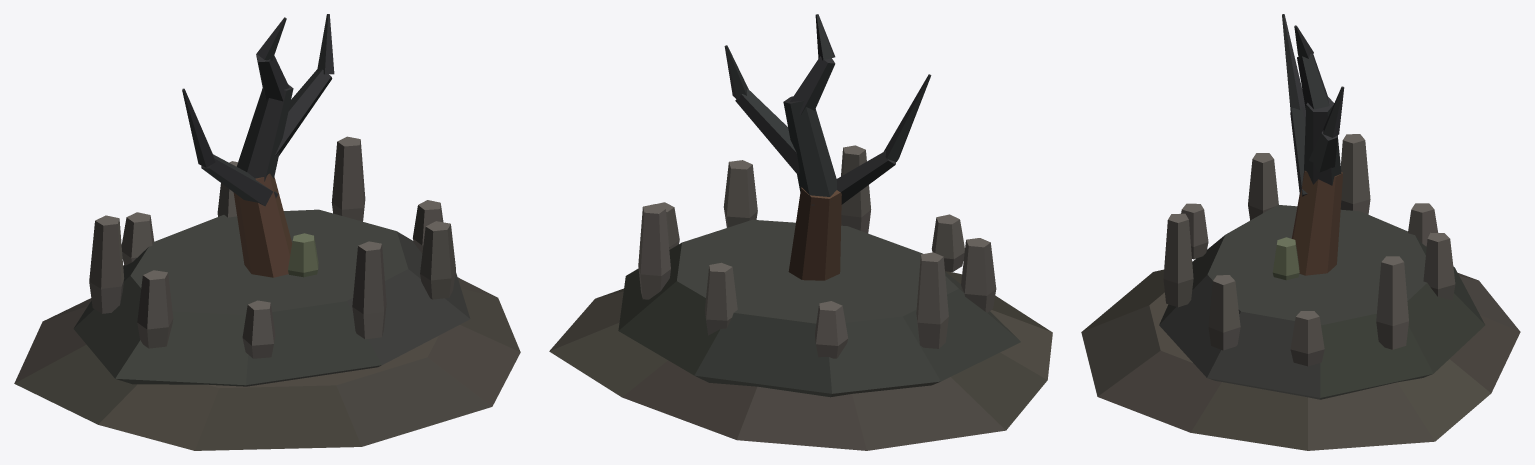
Rendered from yester.glb.
The picture shows the model from 3 angles, left to right: view 1: azimuth 30°, elevation 25°; view 2: azimuth 150°, elevation 25°; view 3: azimuth 270°, elevation 25°; orthographic projection. The views are drawn at different scales.
Parts seen in each view (by area): view 1: Yester Hill · atlas landmark; view 2: Yester Hill · atlas landmark; view 3: Yester Hill · atlas landmark.
Part boxes in pixels (x1,y1,x2,y2): Yester Hill · atlas landmark: (14, 14, 520, 450); Yester Hill · atlas landmark: (549, 14, 1052, 450); Yester Hill · atlas landmark: (1081, 14, 1520, 450).
Bounding box in the file's own units: 2 × 1.49 × 1.77.
